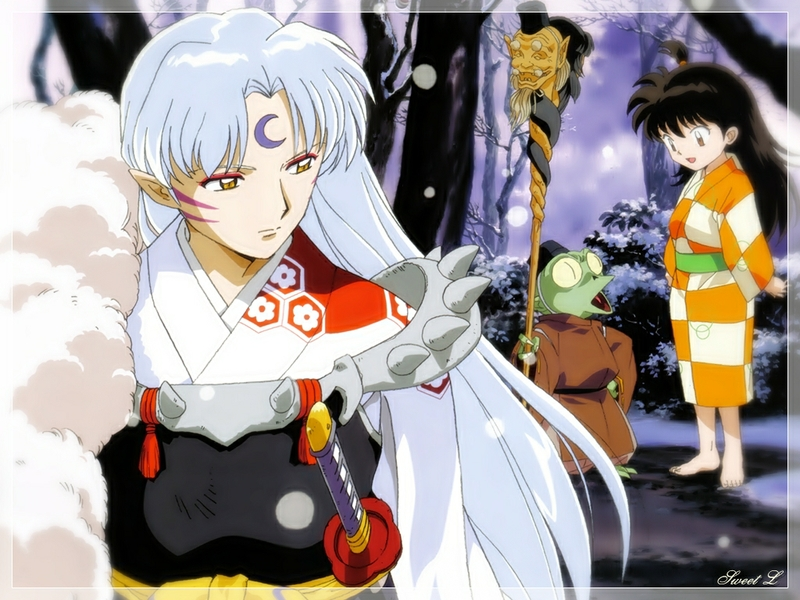sesshomaru: (105, 8, 389, 330)
